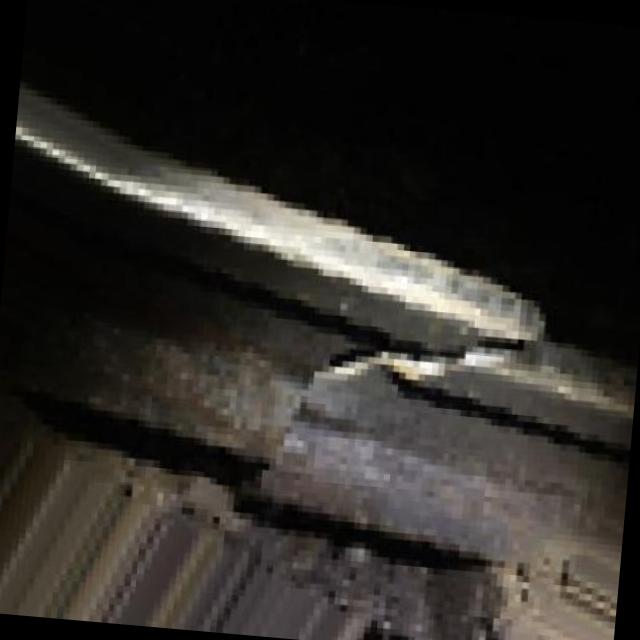defective: (7, 107, 640, 640)
